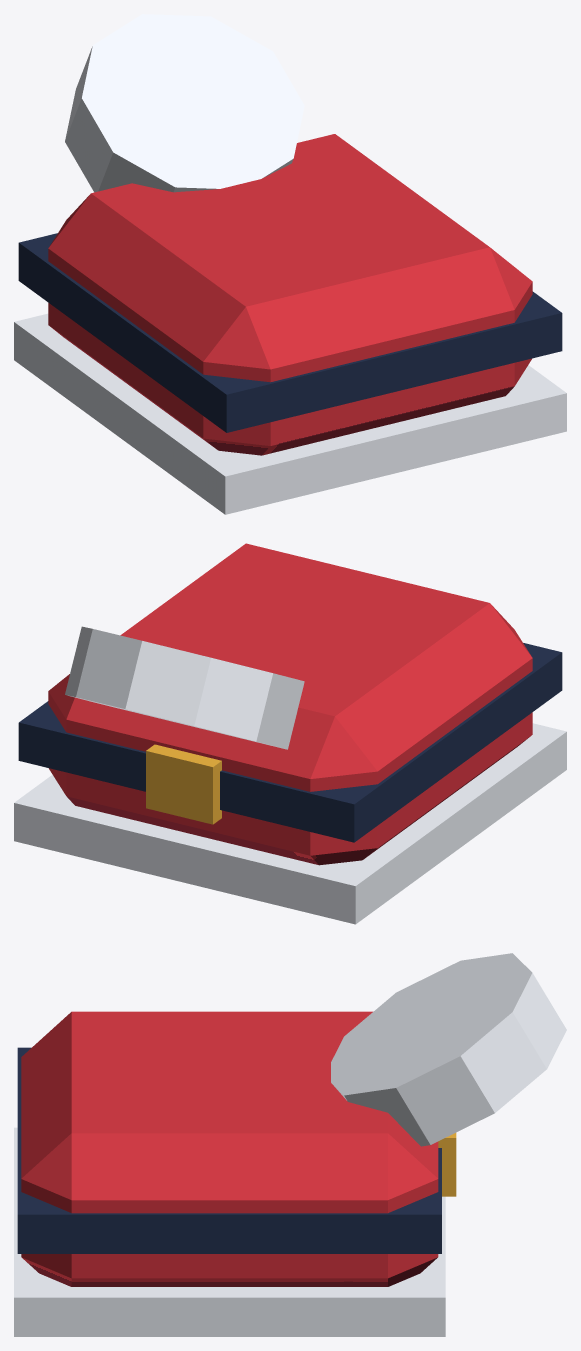
Rendered from outfit_santa_coat.glb.
3 renders of one model, top to bottom at view 1: azimuth 30°, elevation 25°; view 2: azimuth 150°, elevation 25°; view 3: azimuth 270°, elevation 25°, orthographic. The views are drawn at different scales.
Parts seen in each view (by area): view 1: outfit_santa_coat; view 2: outfit_santa_coat; view 3: outfit_santa_coat.
Part boxes in pixels (x1,y1,x2,y2): outfit_santa_coat: (14, 14, 566, 514); outfit_santa_coat: (14, 543, 566, 924); outfit_santa_coat: (14, 953, 566, 1336).
Size of the model in its own units: 0.56 by 0.428 by 0.7688.
Materials: 1 (1 with a texture image).
